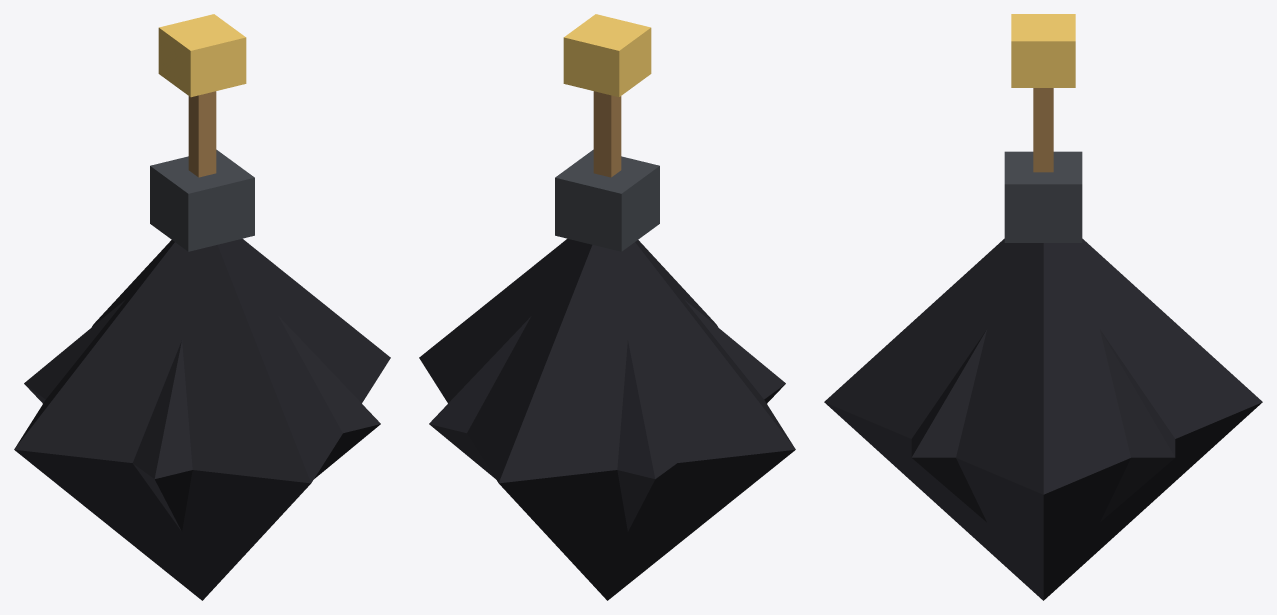
Rendered from pickup_bomb.glb.
3 views of the same model, side by side, from view 1: azimuth 30°, elevation 25°; view 2: azimuth 150°, elevation 25°; view 3: azimuth 270°, elevation 25° (orthographic).
Parts seen in each view (by area): view 1: pickup_bomb; view 2: pickup_bomb; view 3: pickup_bomb.
Boxes of the visible parts, left/top/right/bottom form: pickup_bomb: left=14, top=14, right=390, bottom=600; pickup_bomb: left=419, top=14, right=795, bottom=600; pickup_bomb: left=824, top=14, right=1262, bottom=600.
Bounding box in the file's own units: 0.34 × 0.49 × 0.34.
1 material, 1 textured.
